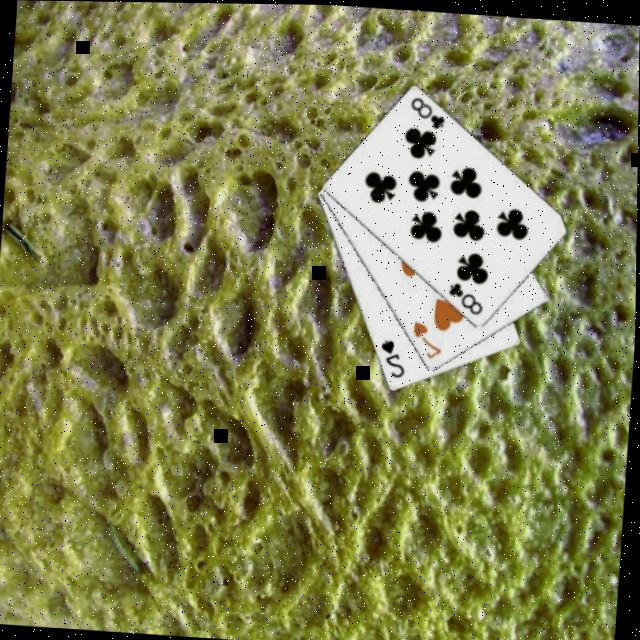2S: (378, 336, 412, 382)
7H: (410, 319, 449, 363)
8C: (445, 279, 489, 320), (407, 94, 451, 134)
